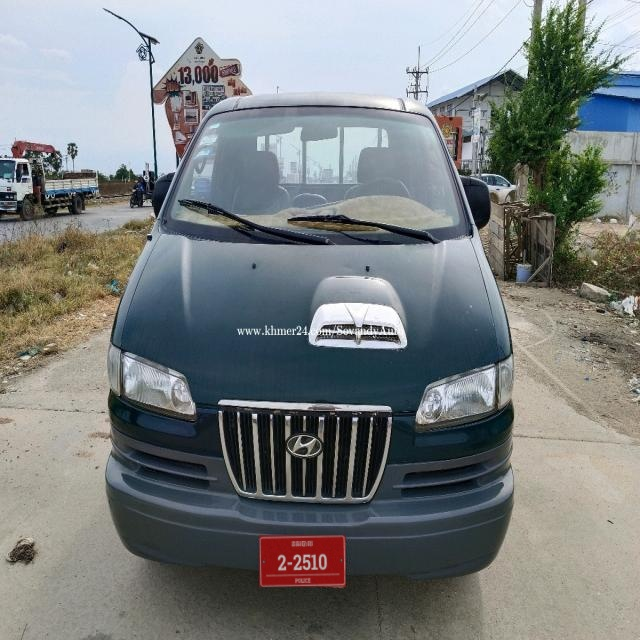Plate Number: (260, 536, 346, 588)
